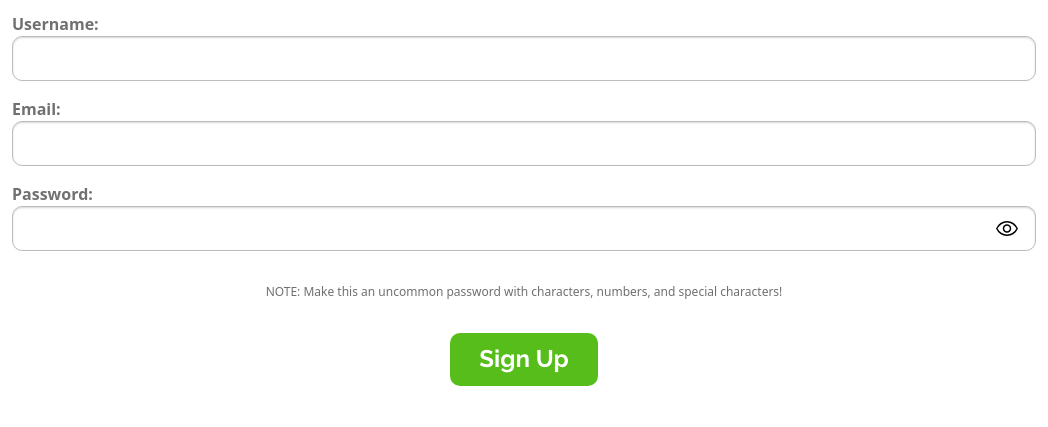
Test case: shows a warning for invalid email
Click the field named "email" at [524, 144], box [12,121,1036,166]
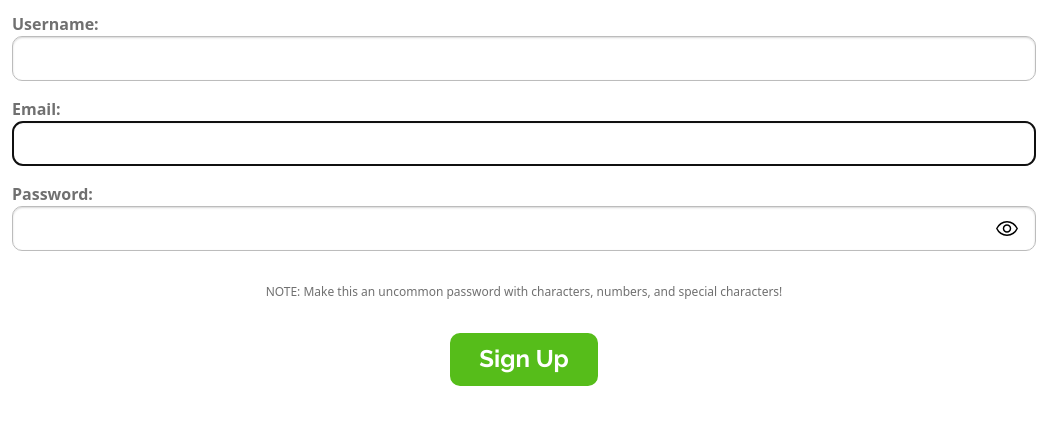
Type keys "email"
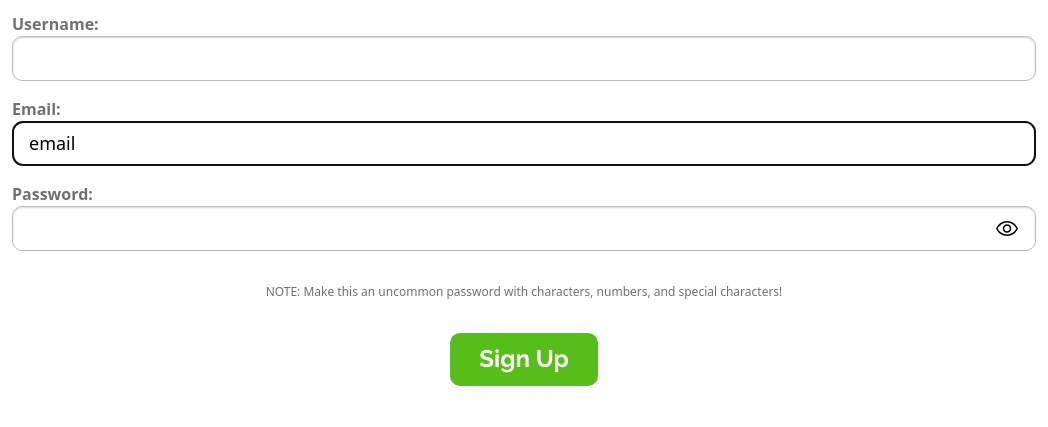
Click the button "Sign Up" at [524, 359], box [450,333,598,386]
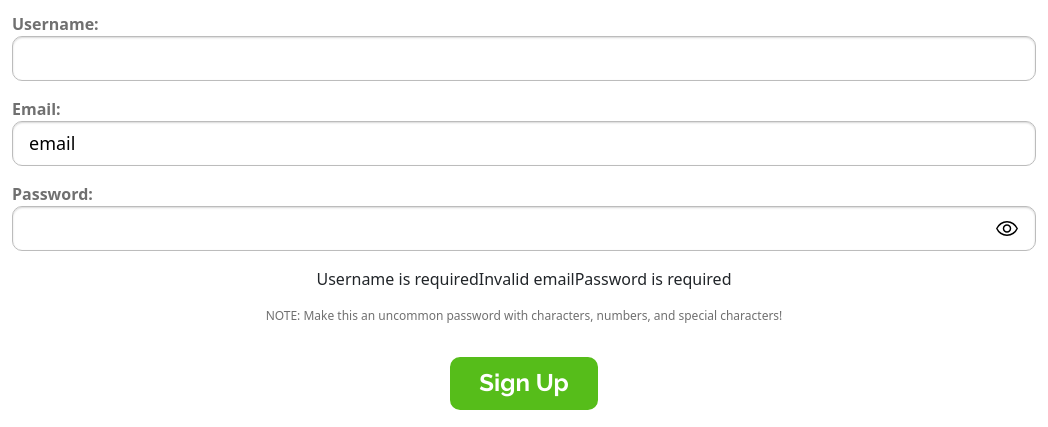
Check: the text "Invalid email" is shown, box [479,268,575,290]
